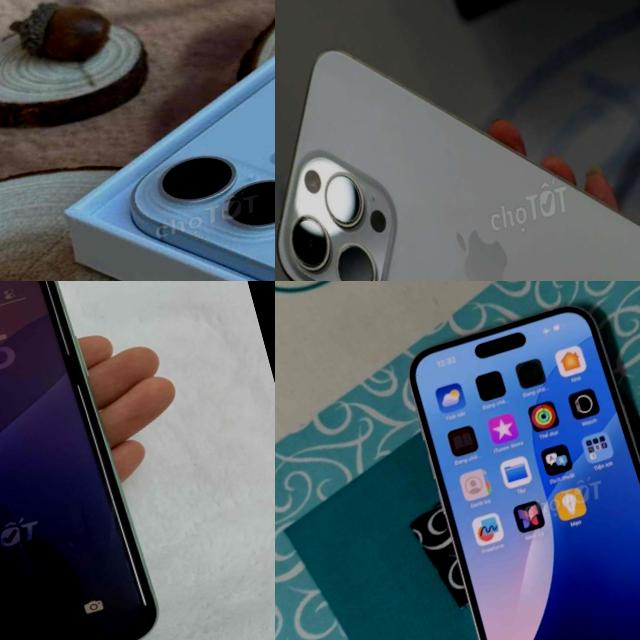gen_11: (0, 281, 188, 640)
gen_15: (275, 0, 640, 281), (386, 281, 640, 640)
gen_17: (100, 0, 275, 281)
